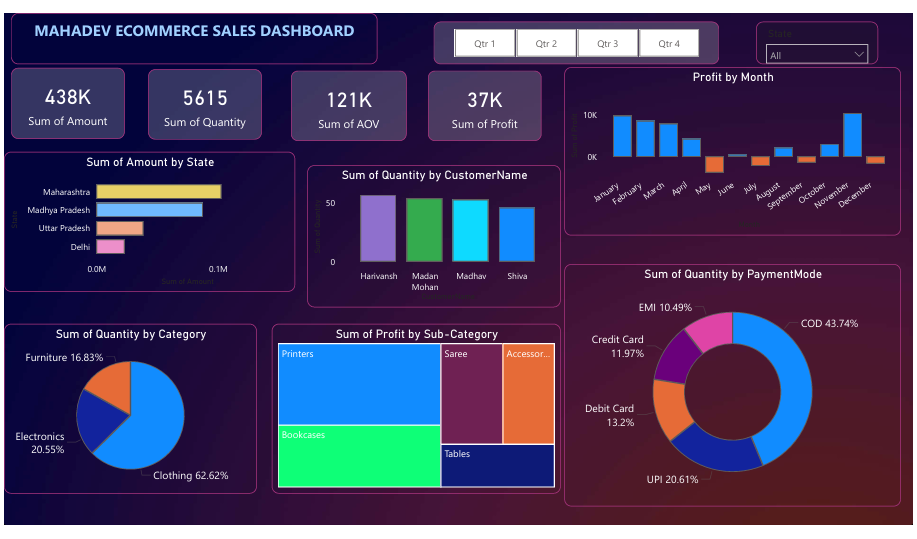

The dashboard page shown, as its layout file describes it:
{"tool":"powerbi","page":{"name":"Page 1","canvas":[1280,720],"ordinal":0},"visuals":[{"type":"textbox","box":[10,0,515.8,71.5],"z":0},{"type":"columnChart","title":"Profit by Month","fields":{"Category":["Orders.Order Date.Variation.Date Hierarchy.Month"],"Y":["Details.Profit"]},"box":[788.6,75.7,474.1,237.1],"z":1000},{"type":"treemap","fields":{"Group":["Details.Sub-Category"],"Values":["Details.Profit"]},"box":[376.6,437.2,406.9,238.8],"z":2000},{"type":"pieChart","fields":{"Category":["Details.Category"],"Y":["Details.Quantity"]},"box":[0,437.2,356.5,238.8],"z":3000},{"type":"donutChart","fields":{"Category":["Details.PaymentMode"],"Y":["Details.Quantity"]},"box":[788.6,353.1,474.1,341.3],"z":4000},{"type":"card","fields":{"Values":["Details.Amount"]},"box":[10.1,77.3,159.7,99.2],"z":5000},{"type":"card","fields":{"Values":["Details.Profit"]},"box":[596.9,80.7,159.7,99.2],"z":6000},{"type":"card","fields":{"Values":["Details.AOV"]},"box":[403.5,80.7,163.1,99.2],"z":7000},{"type":"card","fields":{"Values":["Details.Quantity"]},"box":[203.4,79,159.7,99.2],"z":8000},{"type":"barChart","fields":{"Category":["Orders.State"],"Y":["Details.Amount"]},"box":[0,195,410.3,196.7],"z":9000},{"type":"columnChart","fields":{"Category":["Orders.CustomerName"],"Y":["Details.Quantity"]},"box":[427.1,213.5,356.5,200.1],"z":10000},{"type":"slicer","fields":{"Values":["Orders.Order Date.Variation.Date Hierarchy.Quarter"]},"box":[605.3,11.8,401.8,60.5],"z":11000},{"type":"slicer","fields":{"Values":["Orders.State"]},"box":[1059.3,11.8,171.5,60.5],"z":12000}]}

Visuals, with their boxes on the page's 1280x720 design canvas (x1, y1, x2, y2). These are canvas units, not pixel positions in the 917x539 screenshot, which may show the page scaled, cropped or inside an application window:
textbox: 10:0:526:72
"Profit by Month" columnChart: 789:76:1263:313
treemap - Details.Sub-Category x Details.Profit: 377:437:784:676
pieChart - Details.Category x Details.Quantity: 0:437:356:676
donutChart - Details.PaymentMode x Details.Quantity: 789:353:1263:694
card - Details.Amount: 10:77:170:176
card - Details.Profit: 597:81:757:180
card - Details.AOV: 404:81:567:180
card - Details.Quantity: 203:79:363:178
barChart - Orders.State x Details.Amount: 0:195:410:392
columnChart - Orders.CustomerName x Details.Quantity: 427:214:784:414
slicer - Orders.Order Date.Variation.Date Hierarchy.Quarter: 605:12:1007:72
slicer - Orders.State: 1059:12:1231:72
